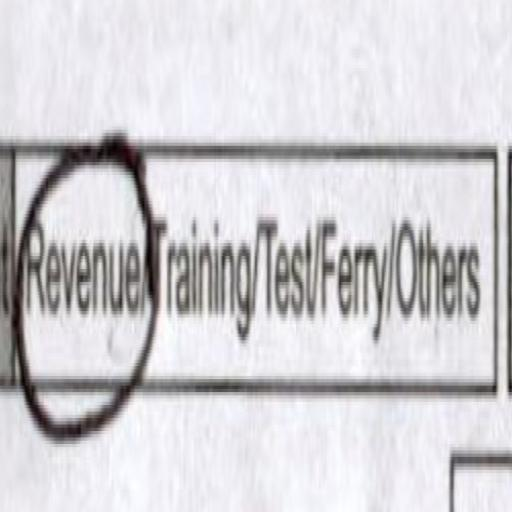check: (12, 94, 153, 501)
